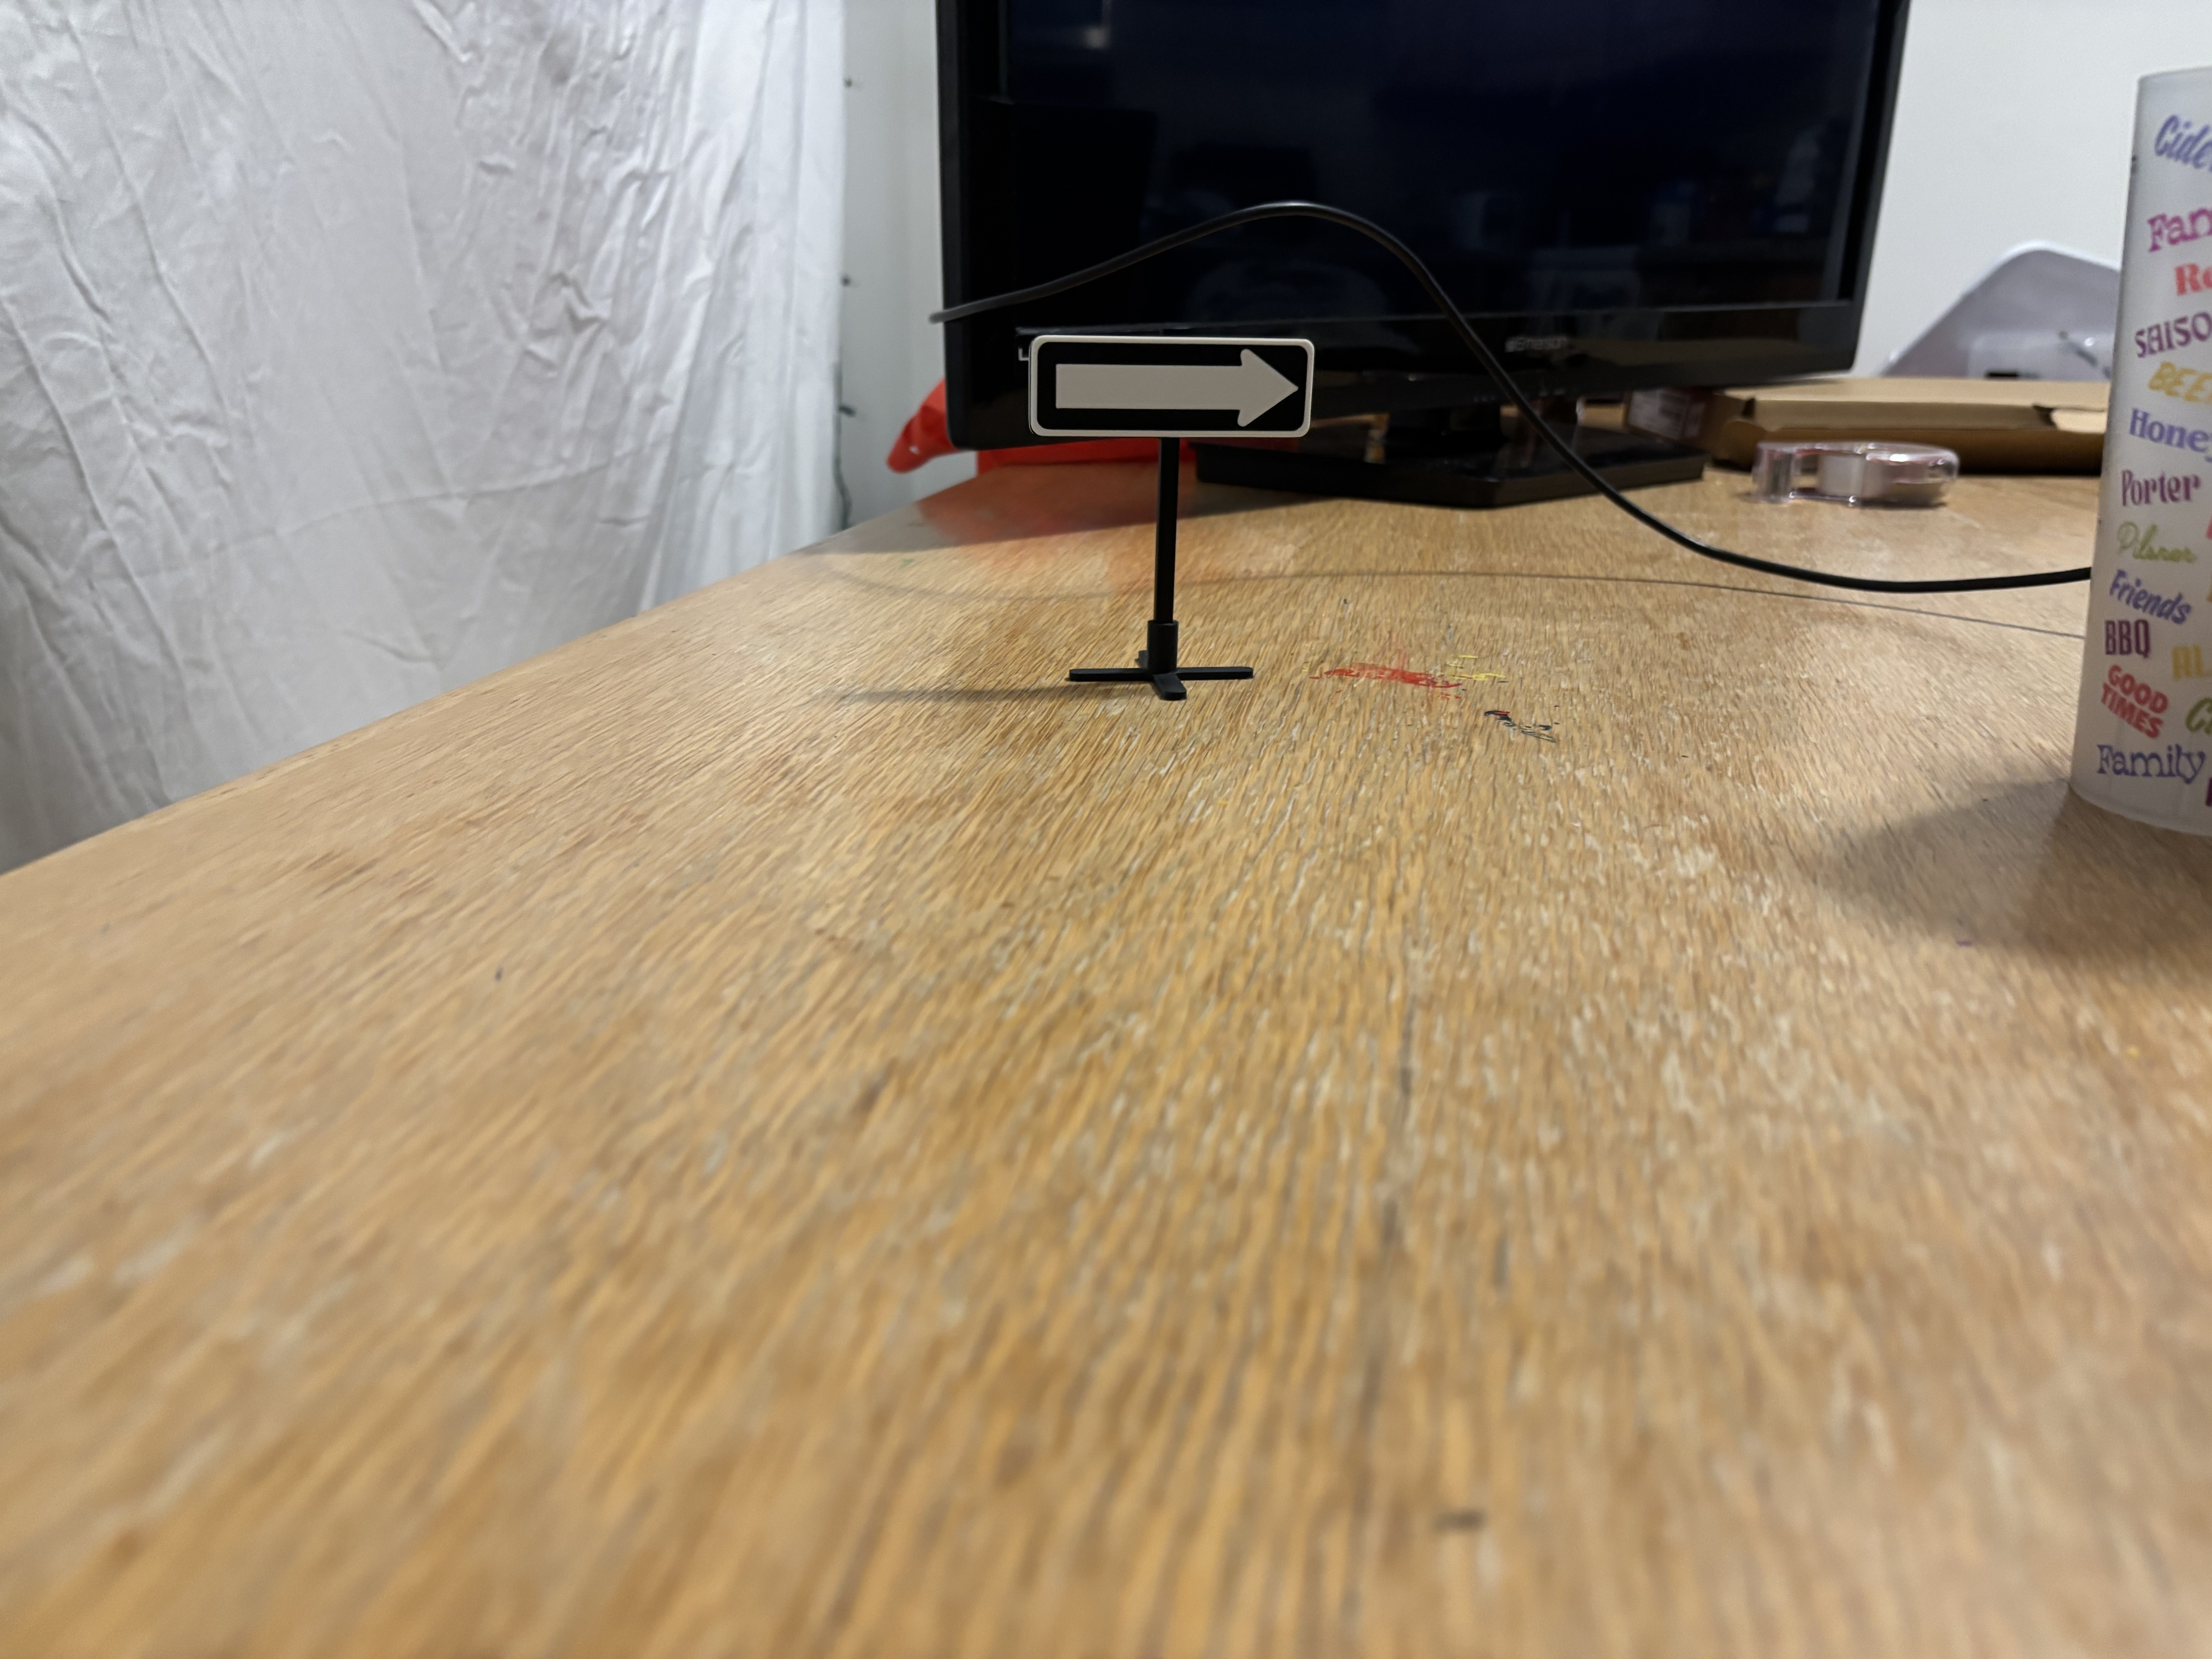sign_oneway_right: (1021, 331, 1317, 429)
